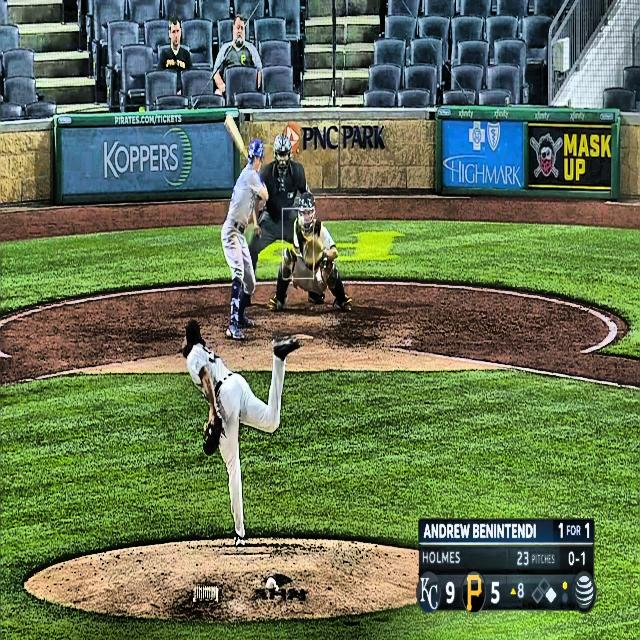baseball: (298, 215, 305, 227)
